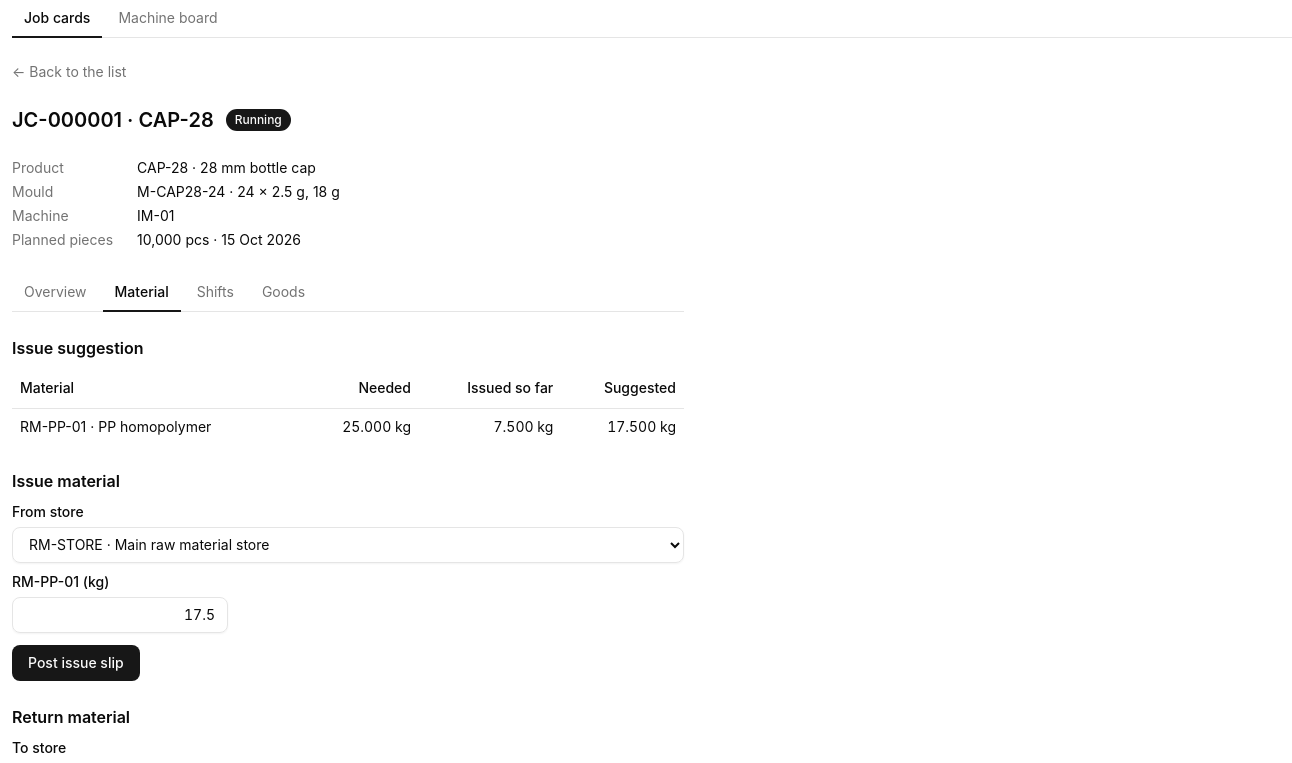
Test: job card page › issues what the suggestion says is still needed
The image size is (1292, 763).
Click the button "Post issue slip": click(76, 662) [12,644,140,680]
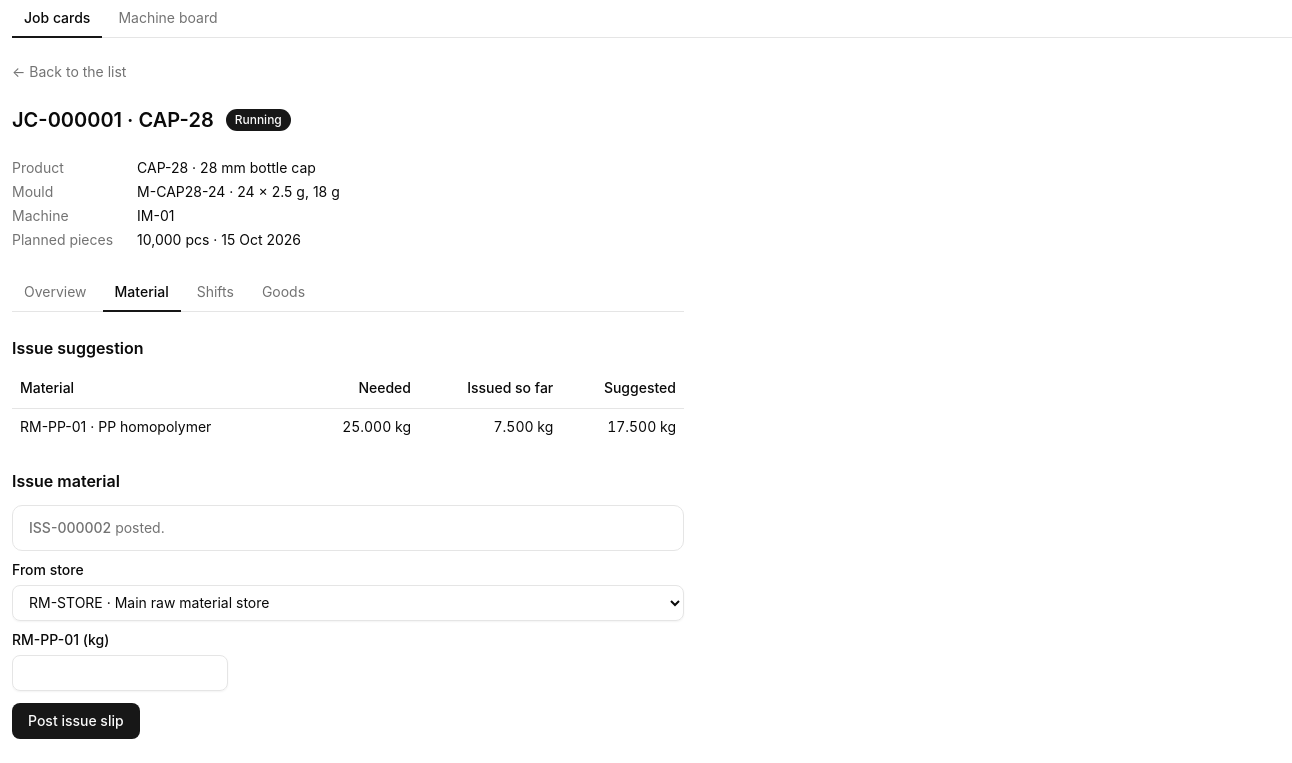
Check: the link "ISS-000002" is shown, box [29,518,111,536]
